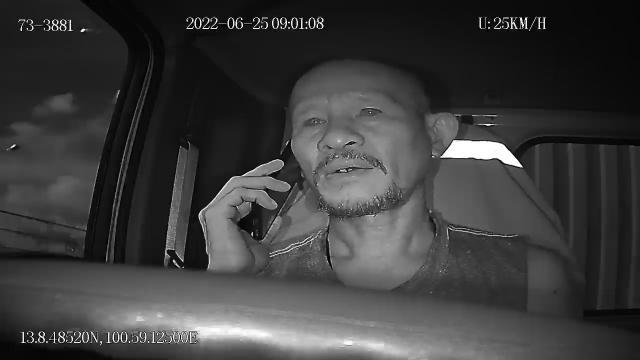PhoneUse: (248, 138, 302, 243)
SafeDriving: (294, 105, 334, 136), (351, 96, 392, 126)
